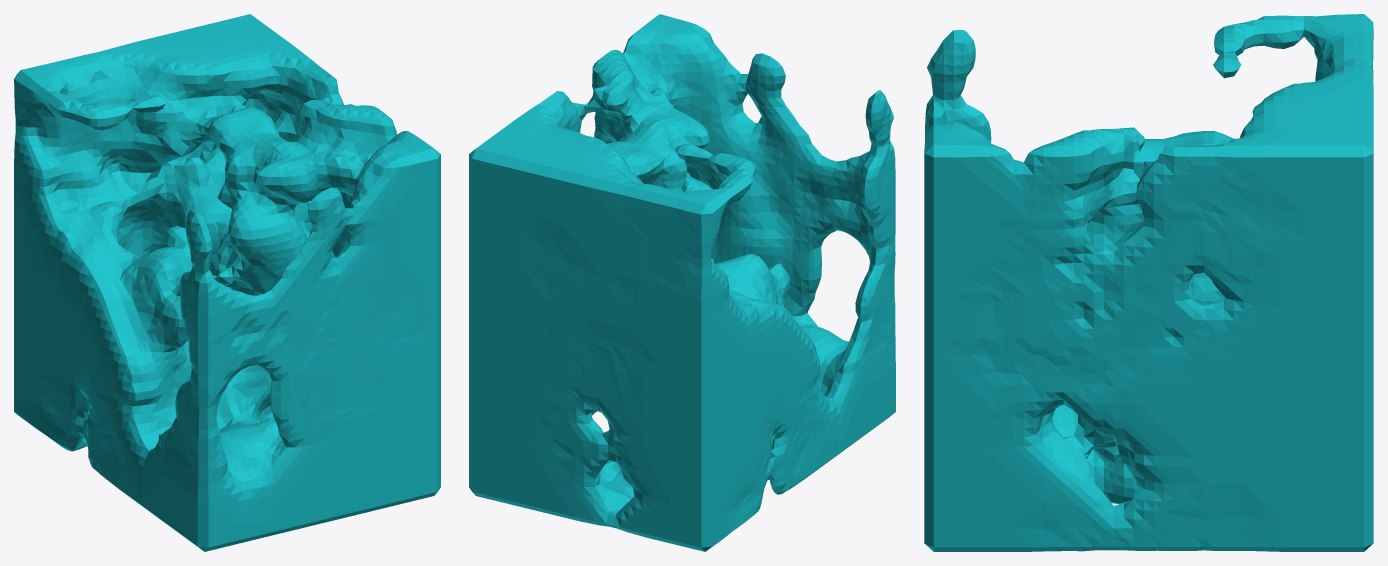
3 renders of one model, left to right at view 1: azimuth 30°, elevation 25°; view 2: azimuth 150°, elevation 25°; view 3: azimuth 270°, elevation 25°, orthographic. The views are drawn at different scales.
Visible parts, largest first — view 1: Liquid_Domain; view 2: Liquid_Domain; view 3: Liquid_Domain.
Part boxes in pixels (x1,y1,x2,y2): Liquid_Domain: [14, 14, 440, 551]; Liquid_Domain: [469, 14, 895, 551]; Liquid_Domain: [924, 14, 1373, 551].
Bounding box in the file's own units: 79.09 × 108 × 108.
